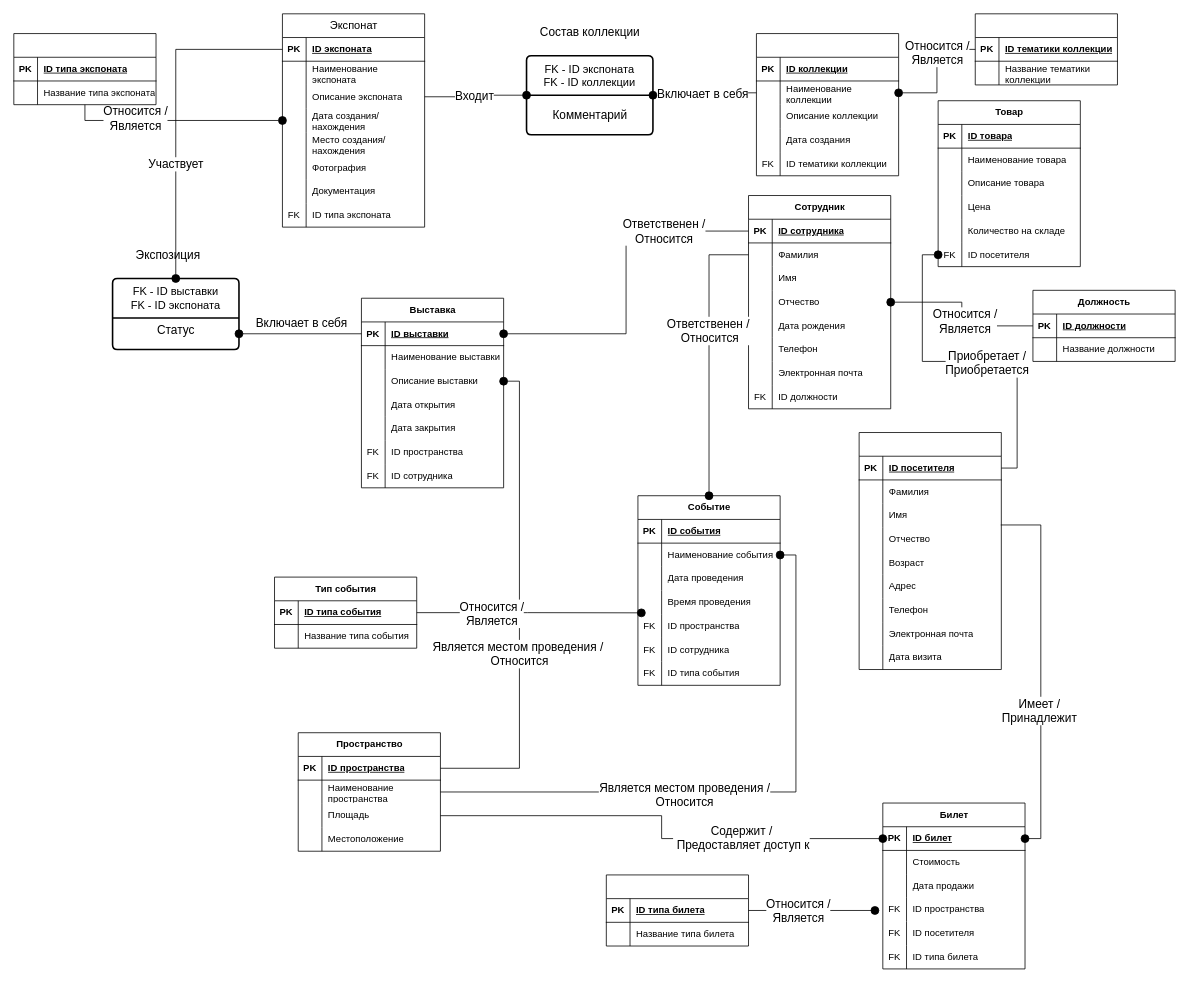
This 1189x983 diagram has some shape labels left out. Each missing label, with the box of its shape:
Коллекция: (756, 33, 899, 176)
Посетитель: (858, 432, 1001, 670)
Тематика коллекции: (974, 13, 1117, 85)
Тип билета: (606, 874, 749, 946)
Тип экспоната: (13, 33, 156, 105)
